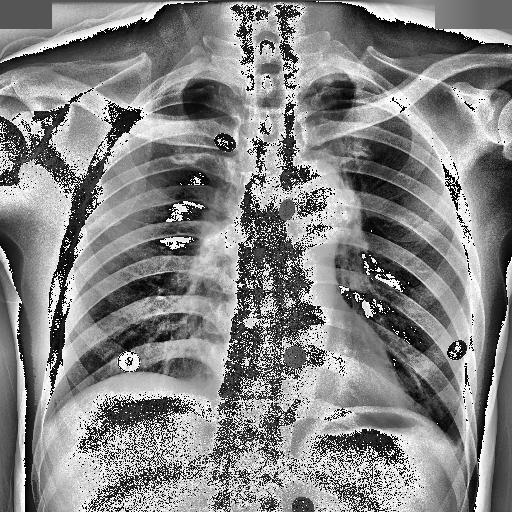0- Aortic enlargement: (286, 158, 354, 244), (282, 160, 347, 234), (288, 154, 342, 228)
11- Pleural thickening: (146, 72, 216, 106), (143, 78, 198, 110), (304, 72, 382, 92), (310, 71, 380, 93), (308, 72, 370, 84)
7- Lung Opacity: (170, 146, 201, 164)
9- Other lesion: (170, 146, 201, 164)
